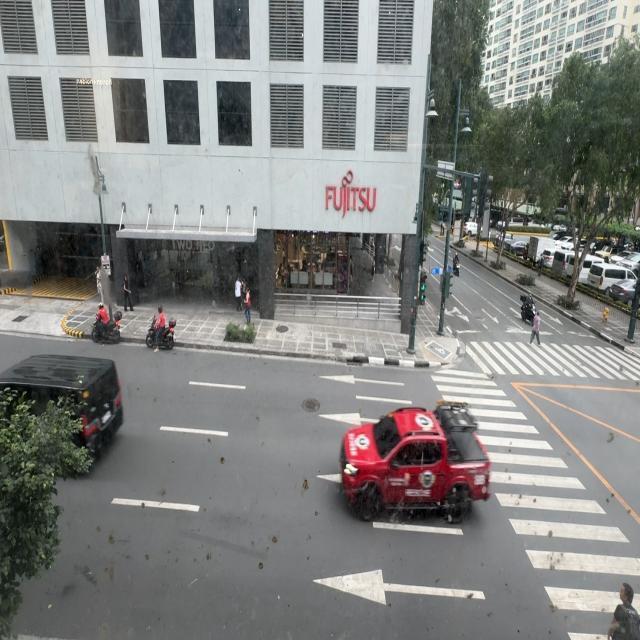crossing: (603, 578, 639, 640), (531, 313, 541, 350)
pedestrain: (121, 273, 134, 313), (242, 288, 253, 324)
